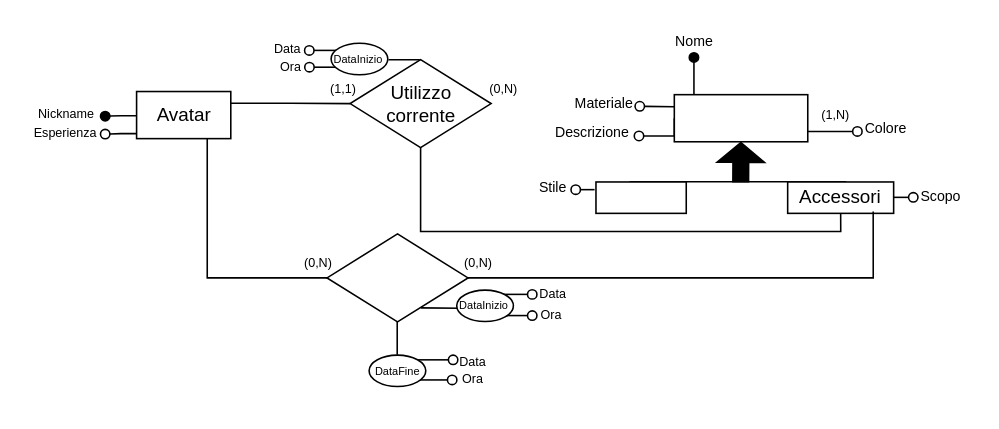
This 999x429 diagram has some shape labels left out. The shapes that lost their labels are listed below. From the top down, each one's centre as x and y in pixels, then its label:
At point 740,117: "Abbigliamento".
At point 640,196: "Abito".
At point 396,277: "Utilizzo passato".
